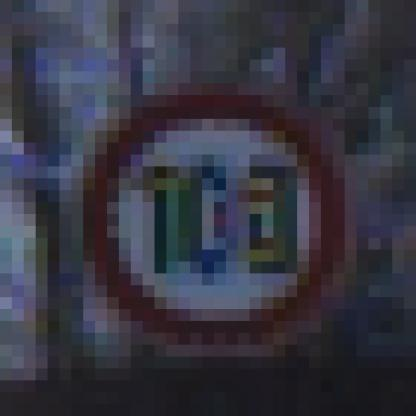Speed Limit 100: (91, 95, 342, 340)
